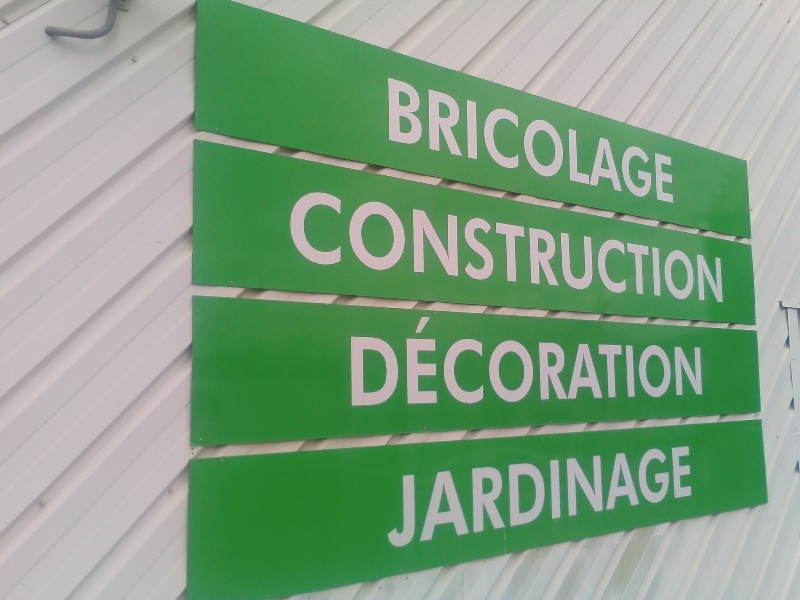text: (401, 76, 416, 204), (417, 76, 432, 204), (433, 76, 448, 204), (449, 76, 464, 204), (465, 76, 480, 204), (481, 76, 496, 204), (497, 76, 512, 204), (513, 76, 528, 204), (529, 76, 544, 204), (545, 76, 560, 204), (561, 76, 576, 204), (577, 76, 592, 204), (593, 76, 608, 204), (609, 76, 624, 204), (625, 76, 640, 204), (641, 76, 656, 204), (657, 76, 672, 204), (289, 185, 304, 306), (305, 185, 320, 306), (321, 185, 336, 306), (337, 185, 352, 306), (353, 185, 368, 306), (369, 185, 384, 306), (385, 185, 400, 306), (401, 185, 416, 306), (417, 185, 432, 306), (433, 185, 448, 306), (449, 185, 464, 306), (465, 185, 480, 306), (481, 185, 496, 306), (497, 185, 512, 306), (513, 185, 528, 306), (529, 185, 544, 306), (545, 185, 560, 306), (561, 185, 576, 306), (577, 185, 592, 306), (593, 185, 608, 306), (609, 185, 624, 306), (625, 185, 640, 306), (641, 185, 656, 306), (657, 185, 672, 306), (673, 185, 688, 306), (689, 185, 704, 306), (705, 185, 720, 306), (387, 76, 400, 204), (401, 443, 416, 551), (417, 443, 432, 551), (433, 443, 448, 551), (449, 443, 464, 551), (465, 443, 480, 551), (481, 443, 496, 551), (497, 443, 512, 551), (513, 443, 528, 551), (529, 443, 544, 551), (545, 443, 560, 551), (561, 443, 576, 551), (577, 443, 592, 551), (593, 443, 608, 551), (609, 443, 624, 551), (625, 443, 640, 551), (641, 443, 656, 551), (657, 443, 672, 551), (673, 443, 688, 551), (353, 311, 368, 410), (369, 311, 384, 410), (385, 311, 400, 410), (401, 311, 416, 410), (417, 311, 432, 410), (433, 311, 448, 410), (449, 311, 464, 410), (465, 311, 480, 410), (481, 311, 496, 410), (497, 311, 512, 410), (513, 311, 528, 410), (529, 311, 544, 410), (545, 311, 560, 410), (561, 311, 576, 410), (577, 311, 592, 410), (593, 311, 608, 410), (609, 311, 624, 410), (625, 311, 640, 410), (641, 311, 656, 410), (657, 311, 672, 410), (673, 311, 688, 410), (689, 311, 704, 410), (389, 443, 400, 551), (721, 185, 726, 306), (689, 443, 694, 551), (673, 76, 676, 204), (351, 311, 352, 410), (705, 311, 706, 410)
